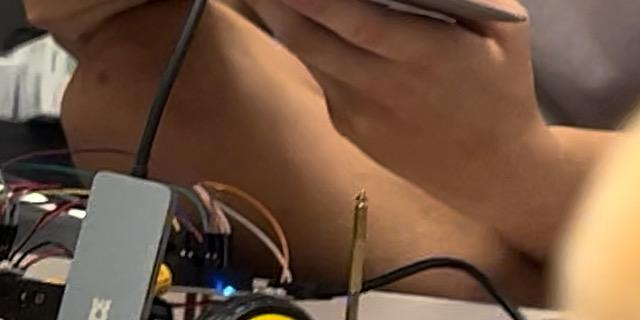burger: (477, 0, 640, 320)
